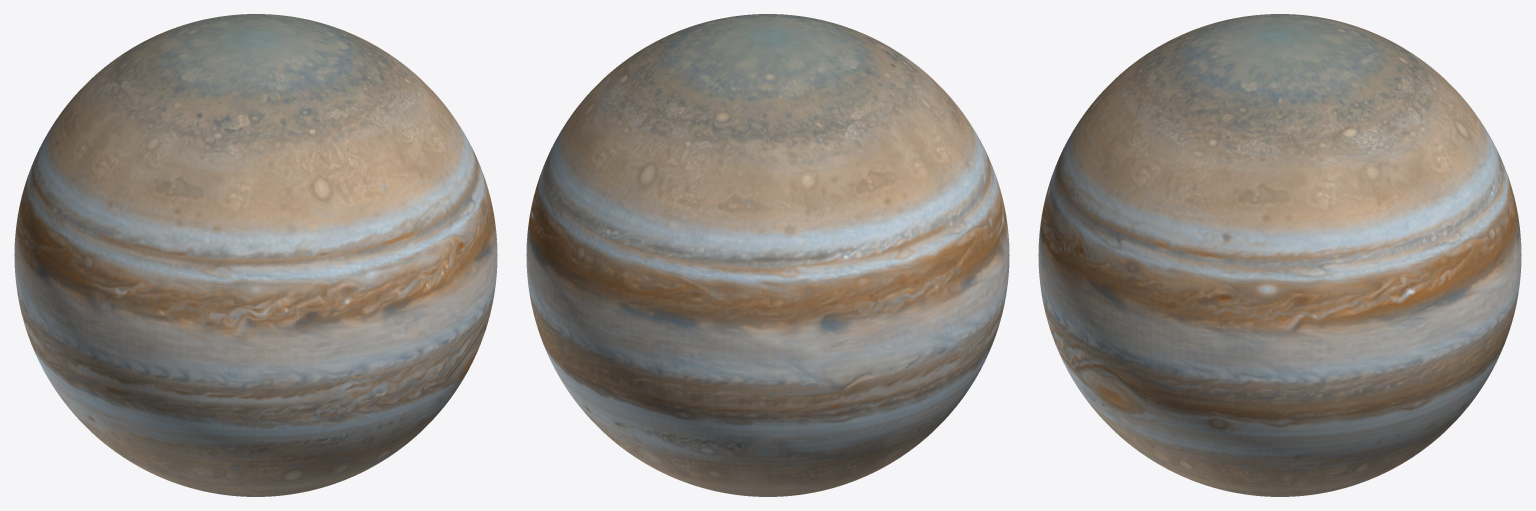
Rendered from Jupiter.gltf.
The picture shows the model from 3 angles, left to right: view 1: azimuth 30°, elevation 25°; view 2: azimuth 150°, elevation 25°; view 3: azimuth 270°, elevation 25°; orthographic projection.
Parts seen in each view (by area): view 1: Sphere; view 2: Sphere; view 3: Sphere.
Part boxes in pixels (left/top/right/bottom): Sphere: left=14, top=14, right=497, bottom=496; Sphere: left=526, top=14, right=1009, bottom=496; Sphere: left=1038, top=14, right=1521, bottom=496.
Size of the model in its own units: 3.34 by 3.34 by 3.34.
Materials: 1 (1 with a texture image).
